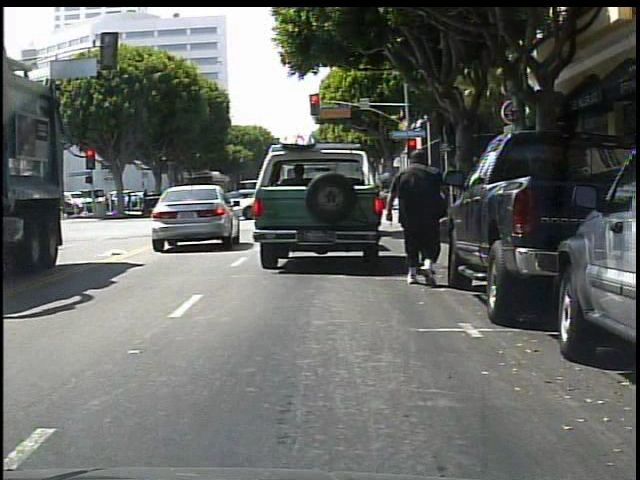person: (394, 146, 452, 288)
